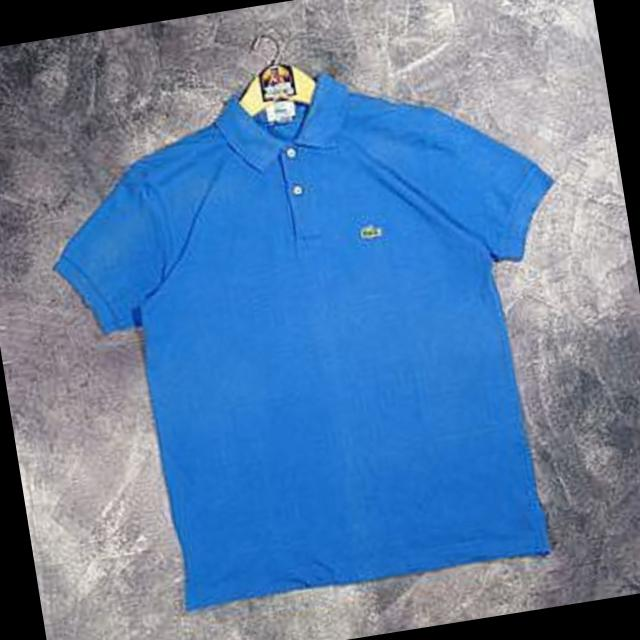T_SHIRT: (16, 25, 622, 632)
